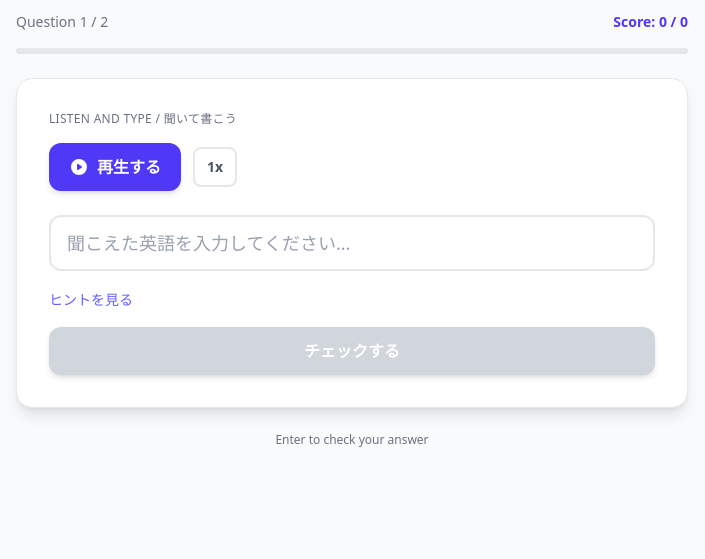
Dictation › grades an exact match as Perfect and reveals the Japanese translation
Type "I like coffee" into the field labelled "聞こえた英語を入力".
click(352, 243); type("I like coffee")  # box [49,215,655,271]
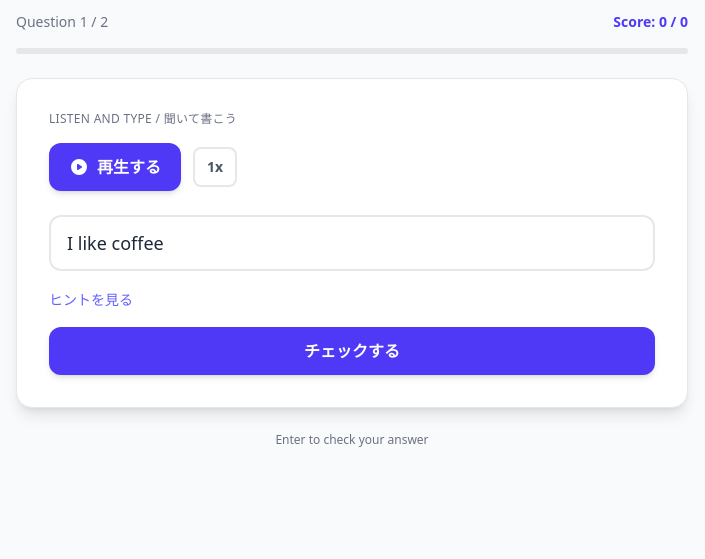
Click the button "チェックする".
click(352, 351)  # box [49,327,655,375]
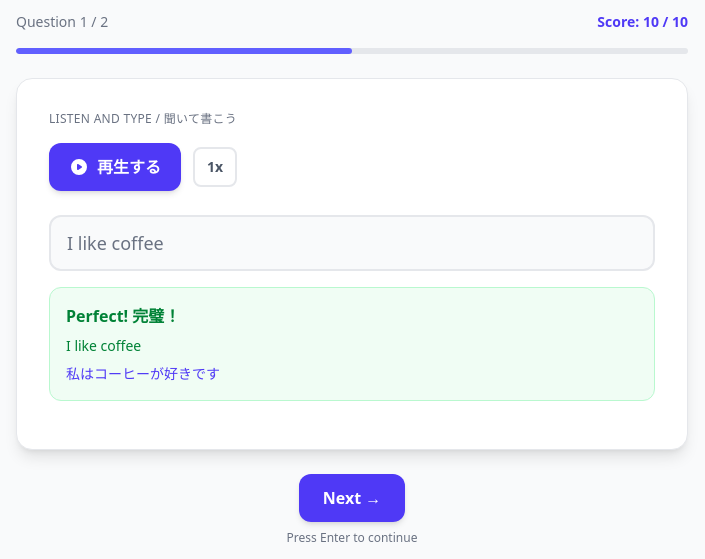
Now the text "Perfect! 完璧！" is shown, box [66,305,180,327]
Now the text "私はコーヒーが好きです" is shown, box [66,364,220,383]
Now the button "Next →" is shown, box [299,474,405,522]
